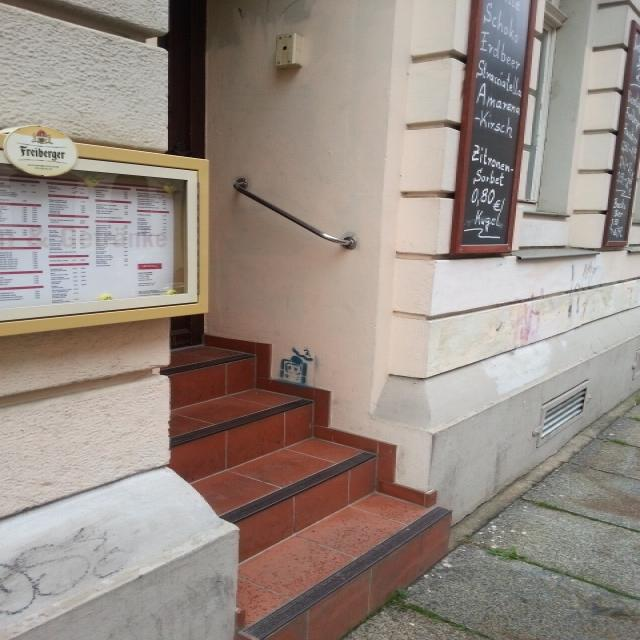AVOID: (168, 340, 445, 640)
